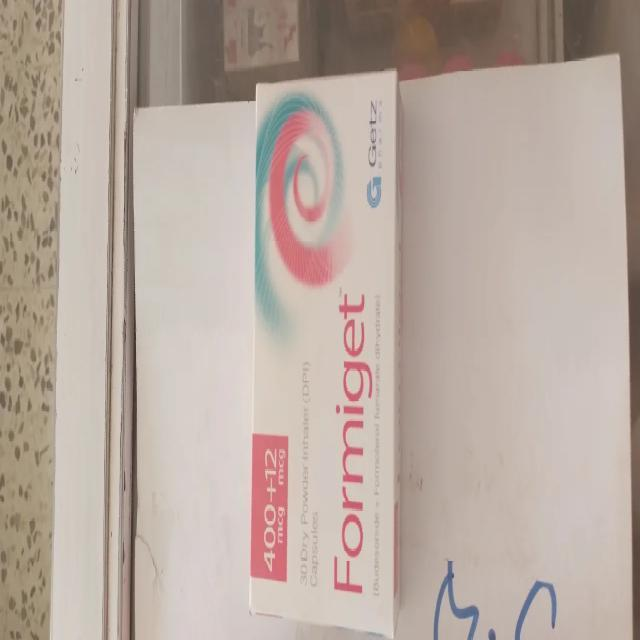drug-name: (329, 291, 375, 597)
